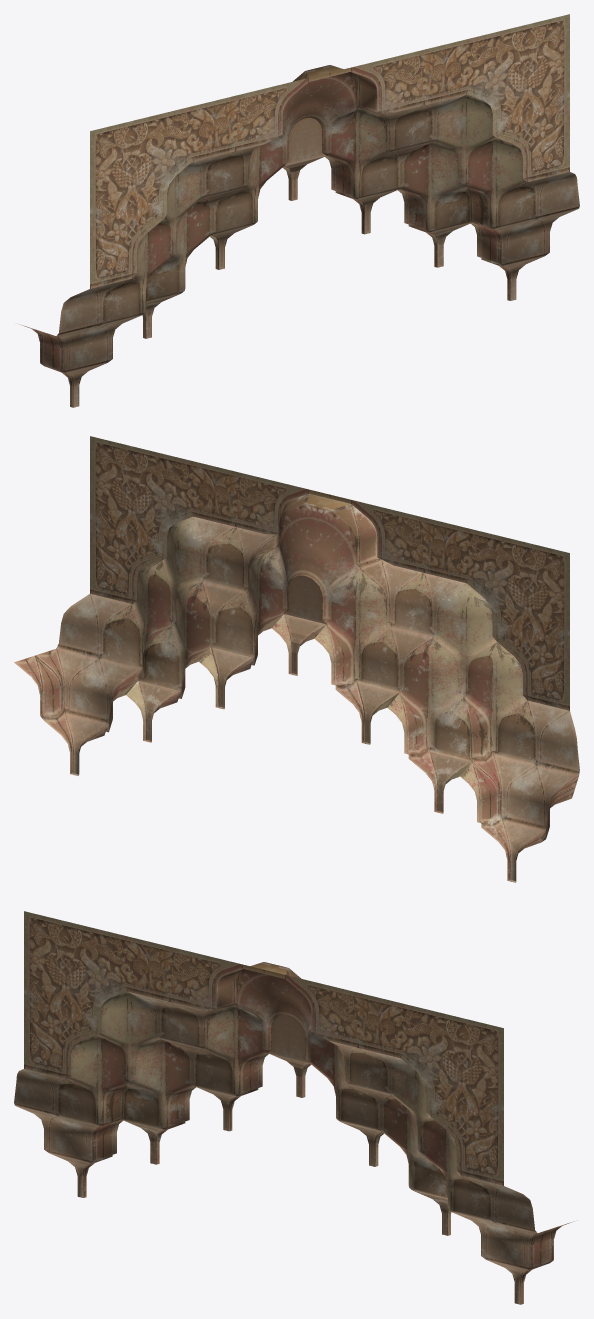
The model's file is muqarnas_-_wall.glb.
3 views of the same model, one above another, from view 1: azimuth 30°, elevation 25°; view 2: azimuth 150°, elevation 25°; view 3: azimuth 330°, elevation 25° (orthographic).
Visible parts, largest first — view 1: Object_2; view 2: Object_2; view 3: Object_2.
Boxes of the visible parts, x1,y1,x2,y2 form: Object_2: [19, 14, 579, 407]; Object_2: [14, 436, 579, 882]; Object_2: [14, 911, 574, 1304].
Size of the model in its own units: 1941 by 1020 by 223.
Materials: 1 (1 with a texture image).
